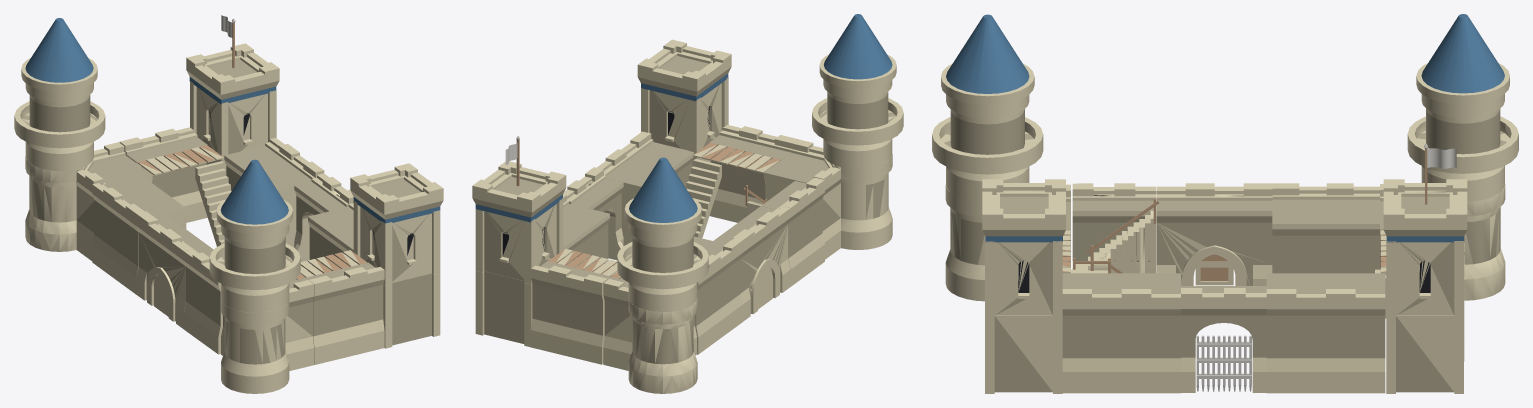
File: 5level.obj
3 views of the same model, side by side, from view 1: azimuth 30°, elevation 25°; view 2: azimuth 150°, elevation 25°; view 3: azimuth 270°, elevation 25° (orthographic). The views are drawn at different scales.
Parts seen in each view (by area): view 1: wallCornerHalfTower.005_wallCornerHalfTower.009, wallNarrowWood.005_wallNarrowWood.014, wallCornerHalfTower.004_wallCornerHalfTower.008, towerBalcony.004_towerBalcony.008, towerBalcony.005_towerBalcony.009, wallHalf.010_wallHalf.023, towerSquareMidWindows.001_towerSquareMidWindows.045, wallNarrowWood.006_wallNarrowWood.015, wallDoor.001, towerSquareMidWindows.010_towerSquareMidWindows.046, towerSquareTopColor.004_towerSquareTopColor.030, towerSquareTopColor.005_towerSquareTopColor.031 (+9 smaller); view 2: wallCornerHalfTower.004_wallCornerHalfTower.008, wallCornerHalfTower.005_wallCornerHalfTower.009, wallNarrowWood.006_wallNarrowWood.015, towerBalcony.005_towerBalcony.009, towerBalcony.004_towerBalcony.008, wallNarrowWood.005_wallNarrowWood.014, towerSquareMidWindows.010_towerSquareMidWindows.046, towerSquareMidWindows.001_towerSquareMidWindows.045, wallDoor.001, wallHalf.010_wallHalf.023, towerSquareTopColor.004_towerSquareTopColor.030, wallNarrowStairsFence.001 (+9 smaller); view 3: wallHalf.006_wallHalf.022, wallHalf.001_wallHalf.003_wallHalf.001_wallHalf.009, wallDoor.001, wallHalf.010_wallHalf.023, towerBalcony.005_towerBalcony.009, towerBalcony.004_towerBalcony.008, wallNarrowStairsFence.001, towerSquareMid.010_towerSquareMid.004_towerSquareMid.010_towerSq, towerSquareMid.035_towerSquareMid.046, towerSquareMidWindows.010_towerSquareMidWindows.046, towerSquareMidWindows.001_towerSquareMidWindows.045, wallNarrowGate.002_wallNarrowGate.015 (+9 smaller).
Boxes of the visible parts, left/top/right/bottom form: wallCornerHalfTower.005_wallCornerHalfTower.009: left=221, top=279, right=313, bottom=393; wallNarrowWood.005_wallNarrowWood.014: left=296, top=250, right=384, bottom=364; wallCornerHalfTower.004_wallCornerHalfTower.008: left=25, top=142, right=152, bottom=260; towerBalcony.004_towerBalcony.008: left=14, top=83, right=105, bottom=171; towerBalcony.005_towerBalcony.009: left=209, top=224, right=300, bottom=312; wallHalf.010_wallHalf.023: left=92, top=177, right=187, bottom=294; towerSquareMidWindows.001_towerSquareMidWindows.045: left=353, top=201, right=440, bottom=285; wallNarrowWood.006_wallNarrowWood.015: left=119, top=127, right=223, bottom=222; wallDoor.001: left=136, top=211, right=213, bottom=329; towerSquareMidWindows.010_towerSquareMidWindows.046: left=190, top=81, right=276, bottom=165; towerSquareTopColor.004_towerSquareTopColor.030: left=350, top=163, right=443, bottom=223; towerSquareTopColor.005_towerSquareTopColor.031: left=186, top=43, right=279, bottom=104; wallCornerHalfTower.004_wallCornerHalfTower.008: left=603, top=278, right=697, bottom=393; wallCornerHalfTower.005_wallCornerHalfTower.009: left=764, top=139, right=892, bottom=259; wallNarrowWood.006_wallNarrowWood.015: left=530, top=248, right=621, bottom=364; towerBalcony.005_towerBalcony.009: left=812, top=79, right=903, bottom=168; towerBalcony.004_towerBalcony.008: left=617, top=223, right=708, bottom=311; wallNarrowWood.005_wallNarrowWood.014: left=693, top=125, right=798, bottom=222; towerSquareMidWindows.010_towerSquareMidWindows.046: left=475, top=198, right=563, bottom=284; towerSquareMidWindows.001_towerSquareMidWindows.045: left=641, top=77, right=728, bottom=162; wallDoor.001: left=713, top=206, right=790, bottom=321; wallHalf.010_wallHalf.023: left=693, top=236, right=742, bottom=354; towerSquareTopColor.004_towerSquareTopColor.030: left=637, top=39, right=731, bottom=101; wallNarrowStairsFence.001: left=744, top=177, right=824, bottom=286; wallHalf.006_wallHalf.022: left=1266, top=273, right=1385, bottom=393; wallHalf.001_wallHalf.003_wallHalf.001_wallHalf.009: left=1062, top=273, right=1180, bottom=393; wallDoor.001: left=1156, top=183, right=1272, bottom=285; wallHalf.010_wallHalf.023: left=1272, top=183, right=1380, bottom=273; towerBalcony.005_towerBalcony.009: left=932, top=94, right=1043, bottom=202; towerBalcony.004_towerBalcony.008: left=1407, top=94, right=1518, bottom=201; wallNarrowStairsFence.001: left=1072, top=183, right=1158, bottom=273; towerSquareMid.010_towerSquareMid.004_towerSquareMid.010_towerSq: left=1386, top=315, right=1463, bottom=393; towerSquareMid.035_towerSquareMid.046: left=985, top=315, right=1062, bottom=393; towerSquareMidWindows.010_towerSquareMidWindows.046: left=1386, top=236, right=1463, bottom=317; towerSquareMidWindows.001_towerSquareMidWindows.045: left=985, top=236, right=1062, bottom=317; wallNarrowGate.002_wallNarrowGate.015: left=1181, top=286, right=1266, bottom=392.
Size of the model in its own units: 38.34 by 35.27 by 70.21.
